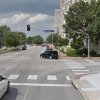crosswalk: (0, 74, 70, 81), (65, 61, 92, 74)
